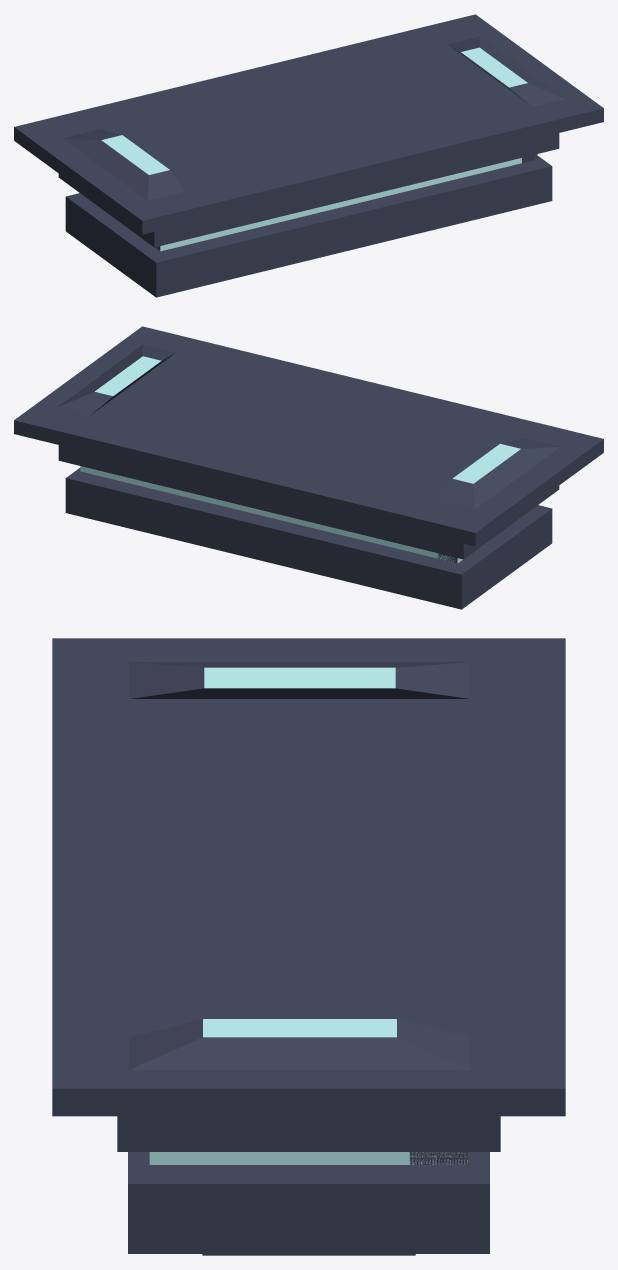
File: Table1.fbx
3 views of the same model, one above another, from view 1: azimuth 30°, elevation 25°; view 2: azimuth 150°, elevation 25°; view 3: azimuth 270°, elevation 25° (orthographic). The views are drawn at different scales.
Visible parts, largest first — view 1: Cube.015; view 2: Cube.015; view 3: Cube.015.
Boxes of the visible parts, box(x1,y1,x2,y2) form: Cube.015: box(14, 14, 603, 297); Cube.015: box(14, 326, 603, 609); Cube.015: box(52, 638, 565, 1255).
Size of the model in its own units: 4.03 by 1.02 by 1.94.
